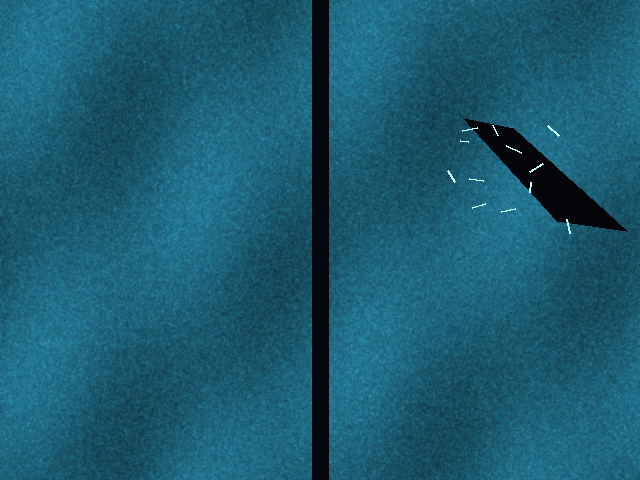Ghost Net: (453, 118, 567, 221)
